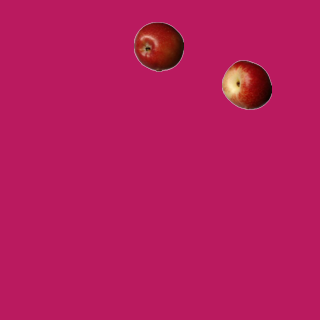Apple Braeburn: (133, 21, 183, 71)
Nectarine: (221, 59, 271, 109)
